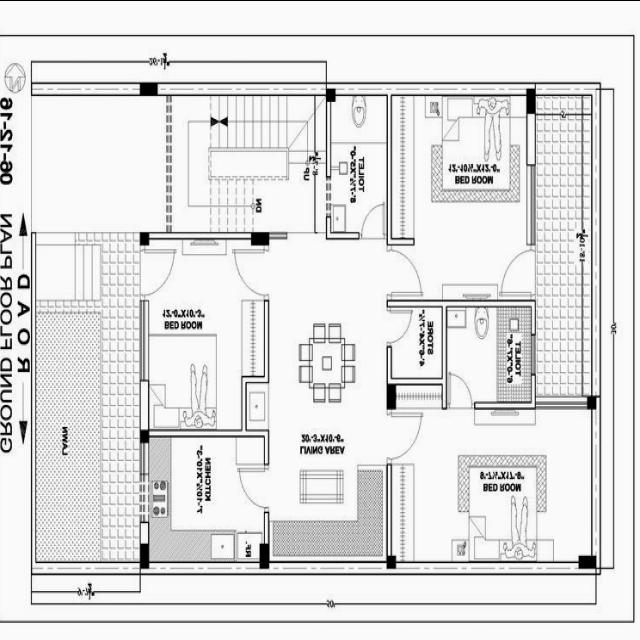Blueprint: (22, 70, 609, 590)
column: (574, 546, 600, 580), (521, 75, 539, 118), (135, 77, 161, 101), (136, 540, 154, 574), (247, 226, 272, 248), (580, 391, 600, 417), (258, 538, 272, 574), (134, 225, 152, 251), (320, 84, 340, 105), (136, 424, 153, 446), (384, 549, 399, 573)
wall: (591, 93, 601, 395), (336, 80, 528, 95), (396, 561, 580, 574), (158, 81, 326, 95), (268, 560, 388, 574), (150, 560, 262, 575), (31, 80, 141, 95), (30, 558, 142, 572), (591, 408, 601, 554), (150, 426, 270, 436), (536, 81, 602, 95), (150, 230, 252, 238), (140, 379, 150, 429), (527, 112, 536, 164), (264, 298, 270, 376), (242, 374, 248, 430), (140, 519, 150, 544), (246, 374, 270, 384), (270, 232, 288, 240)
